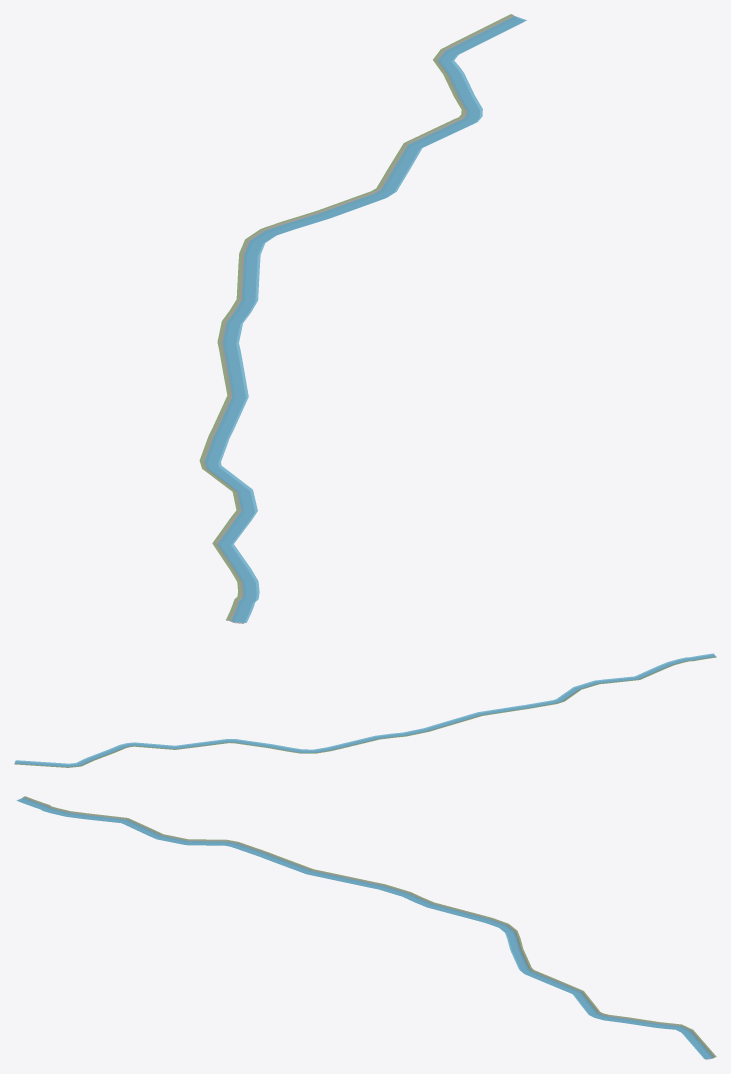
The model's file is corridor-00.glb.
The picture shows the model from 3 angles, top to bottom: view 1: azimuth 30°, elevation 25°; view 2: azimuth 150°, elevation 25°; view 3: azimuth 270°, elevation 25°; orthographic projection. The views are drawn at different scales.
Parts seen in each view (by area): view 1: water_water, concreteDark_terrain, rock_terrain, grass_terrain; view 2: water_water, concreteDark_terrain, grass_terrain, rock_terrain; view 3: water_water, concreteDark_terrain, rock_terrain, grass_terrain.
Boxes of the visible parts, box(x1,y1,x2,y2) form: water_water: box(204, 16, 526, 622); concreteDark_terrain: box(208, 18, 523, 623); rock_terrain: box(202, 15, 515, 622); grass_terrain: box(199, 14, 512, 620); water_water: box(14, 653, 715, 766); concreteDark_terrain: box(15, 655, 714, 766); grass_terrain: box(14, 657, 716, 767); rock_terrain: box(15, 656, 716, 767); water_water: box(16, 797, 713, 1059); concreteDark_terrain: box(19, 799, 711, 1059); rock_terrain: box(22, 797, 714, 1058); grass_terrain: box(24, 796, 716, 1057).
Bounding box in the file's own units: 8324 × 111 × 9617.
4 materials, 4 textured.
